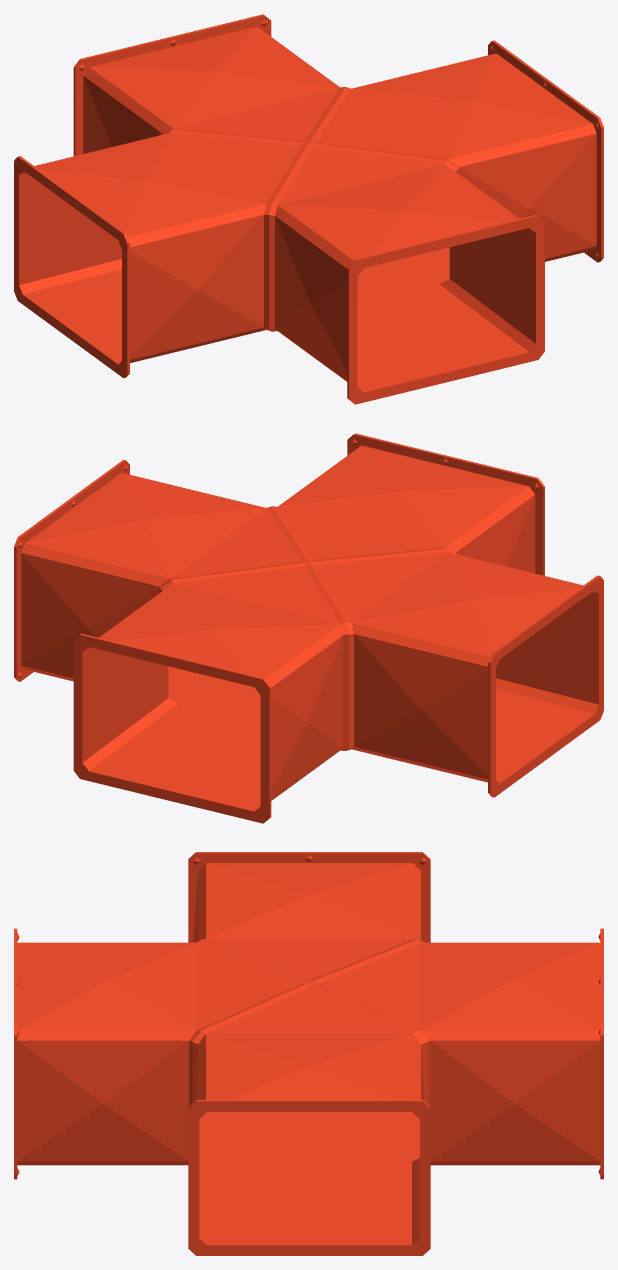
Rendered from SM_Vent_Cross_City.fbx.
The picture shows the model from 3 angles, top to bottom: view 1: azimuth 30°, elevation 25°; view 2: azimuth 150°, elevation 25°; view 3: azimuth 270°, elevation 25°; orthographic projection. The views are drawn at different scales.
Parts seen in each view (by area): view 1: SM_Vent_Cross_City; view 2: SM_Vent_Cross_City; view 3: SM_Vent_Cross_City.
Part boxes in pixels (x1,y1,x2,y2): SM_Vent_Cross_City: (14,14,603,404); SM_Vent_Cross_City: (14,433,603,823); SM_Vent_Cross_City: (14,852,603,1255).
Bounding box in the file's own units: 2 × 0.578 × 2.
